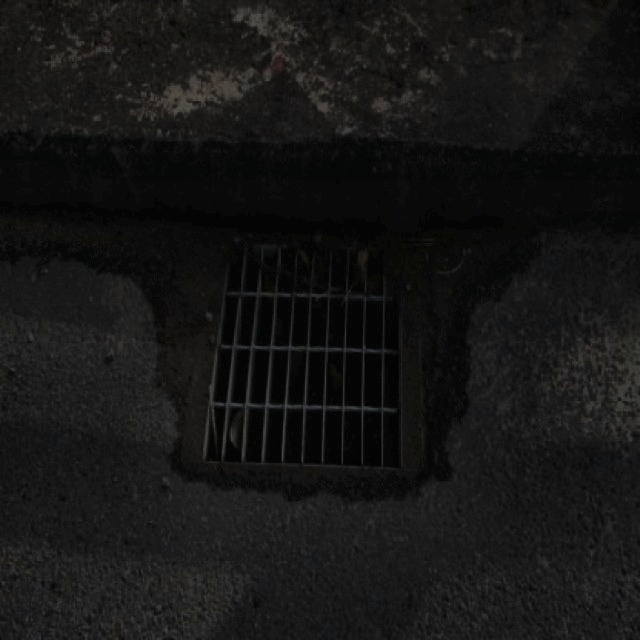Drain Hole: (210, 218, 444, 484)
